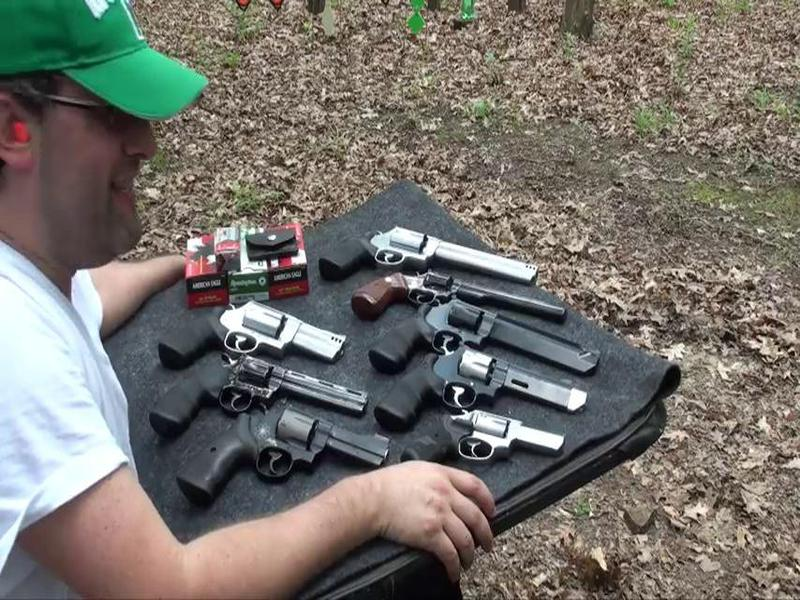Revolver: (173, 407, 381, 510)
